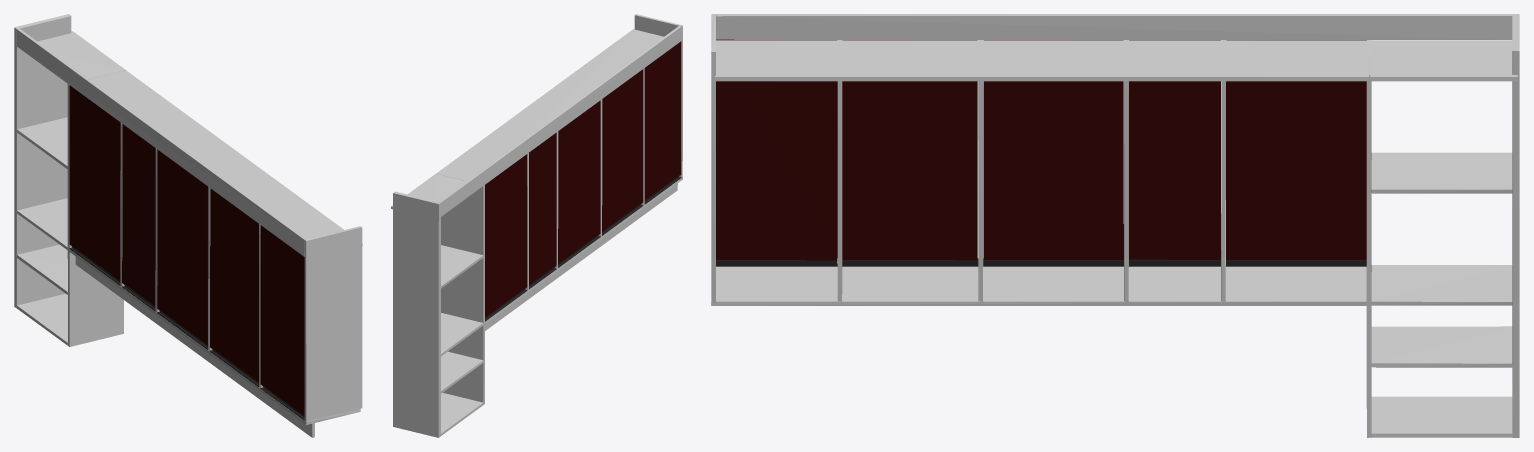
Rendered from Kitchen furniture 2.FBX.
The picture shows the model from 3 angles, left to right: view 1: azimuth 30°, elevation 25°; view 2: azimuth 150°, elevation 25°; view 3: azimuth 270°, elevation 25°; orthographic projection. The views are drawn at different scales.
Visible parts, largest first — view 1: Kitchen furniture 2; view 2: Kitchen furniture 2; view 3: Kitchen furniture 2.
Boxes of the visible parts, <box> form: Kitchen furniture 2: <box>14,14,362,437</box>; Kitchen furniture 2: <box>391,14,682,437</box>; Kitchen furniture 2: <box>711,14,1519,437</box>.
Size of the model in its own units: 381 by 1760 by 3330.
